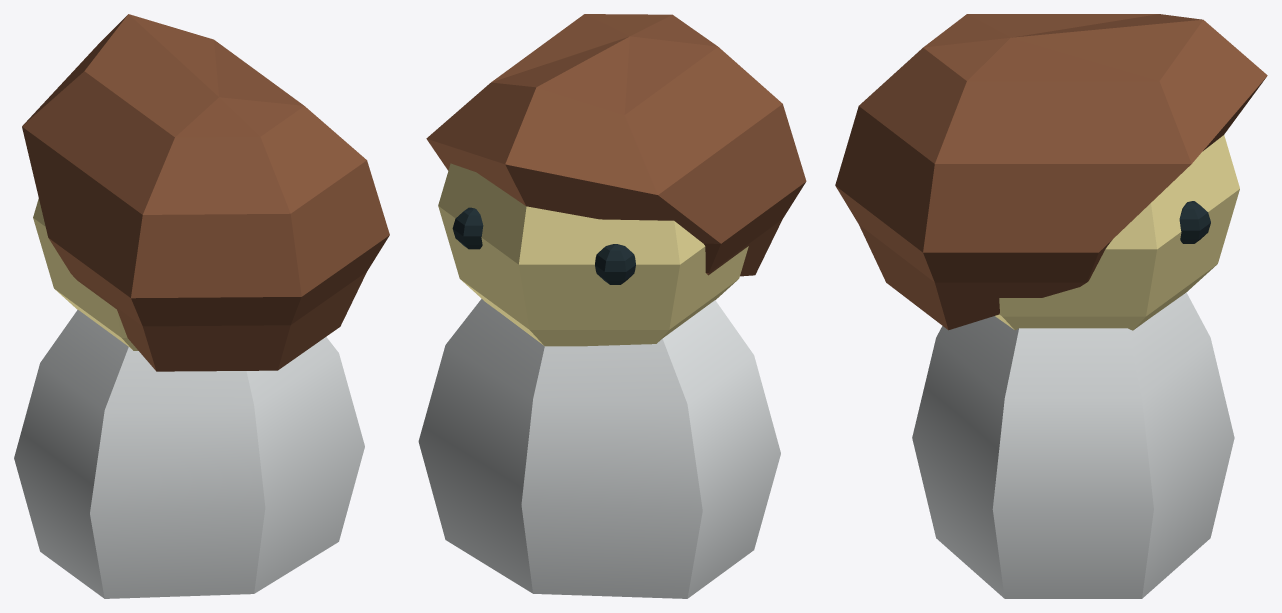
Rendered from GrahamDoll_mesh.fbx.
3 renders of one model, left to right at view 1: azimuth 30°, elevation 25°; view 2: azimuth 150°, elevation 25°; view 3: azimuth 270°, elevation 25°, orthographic. The views are drawn at different scales.
Visible parts, largest first — view 1: polySurface81; view 2: polySurface81; view 3: polySurface81.
Boxes of the visible parts, x1,y1,x2,y2 form: polySurface81: (14, 14, 389, 598); polySurface81: (418, 14, 806, 598); polySurface81: (835, 14, 1267, 598).
Size of the model in its own units: 2.84 by 4.81 by 3.64.
